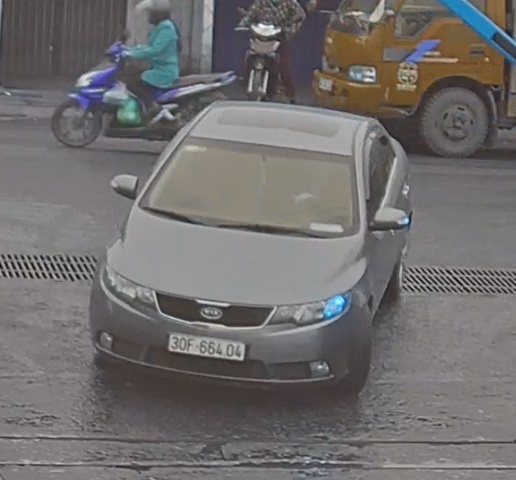vehicle plate: (169, 329, 247, 365)
